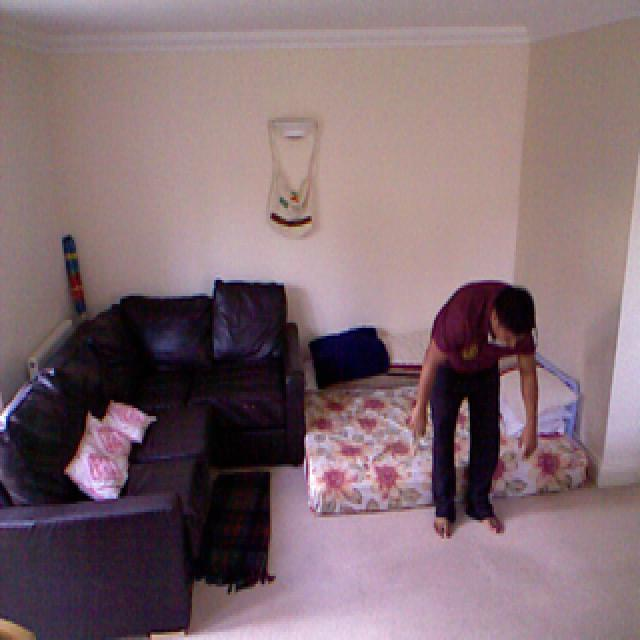NotFall: (345, 256, 563, 556)
